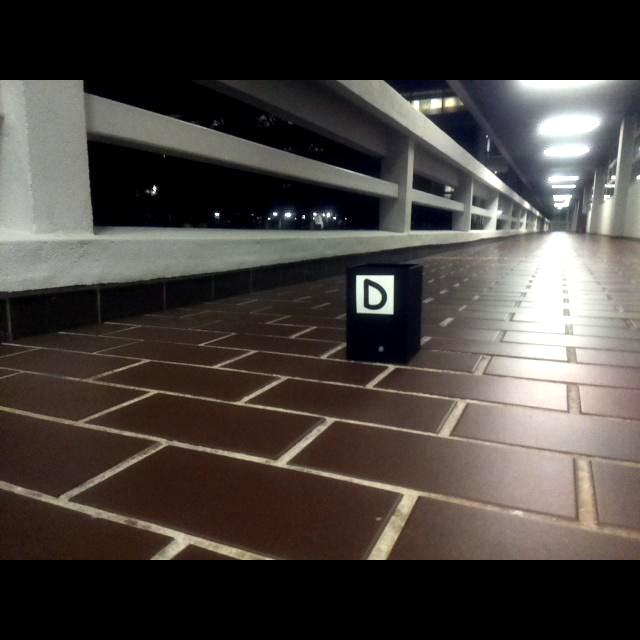D: (363, 278, 387, 311)
